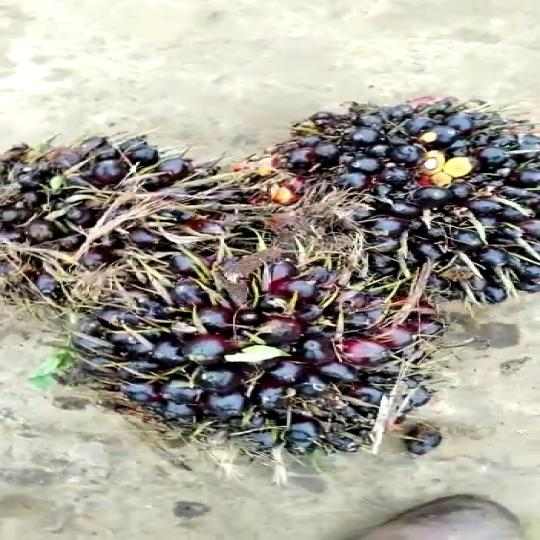mentah: (62, 270, 464, 458), (274, 100, 540, 309), (0, 124, 291, 304)
